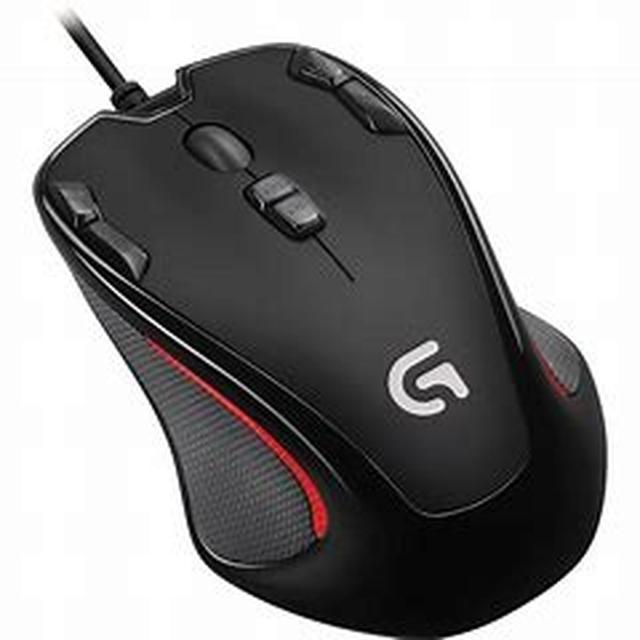mouse: (62, 49, 594, 619)
